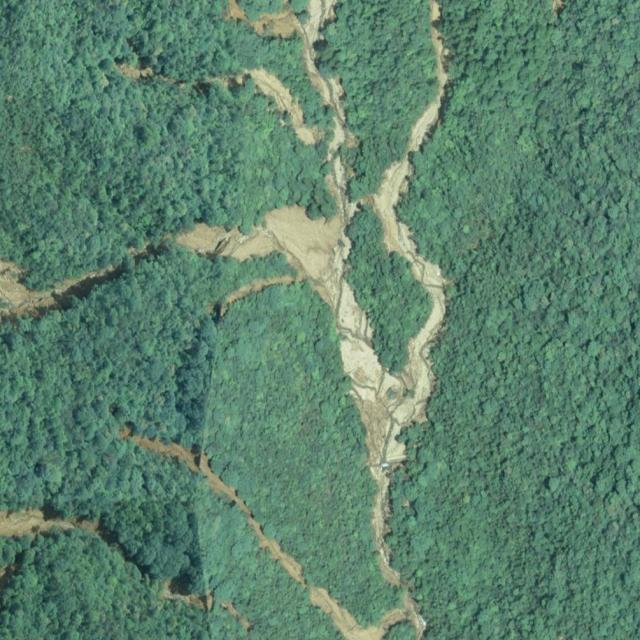landslide: (177, 0, 450, 587)
